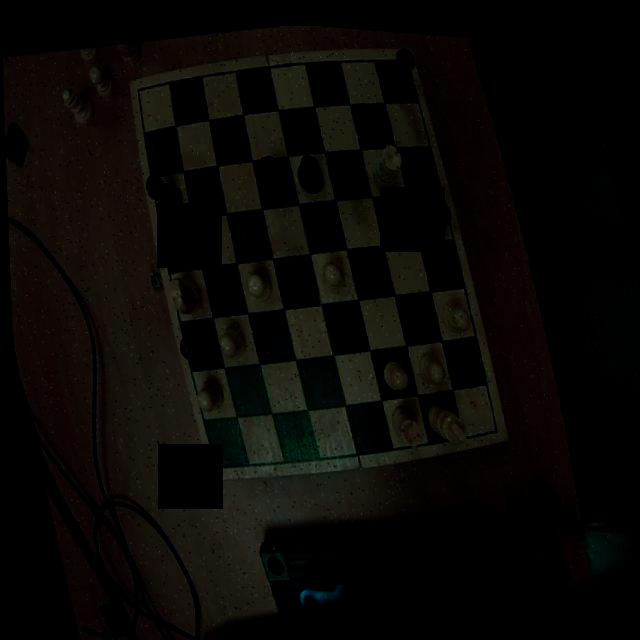chess-table-corners: (202, 444, 228, 474), (478, 408, 503, 437), (397, 40, 418, 71), (129, 73, 152, 99)
